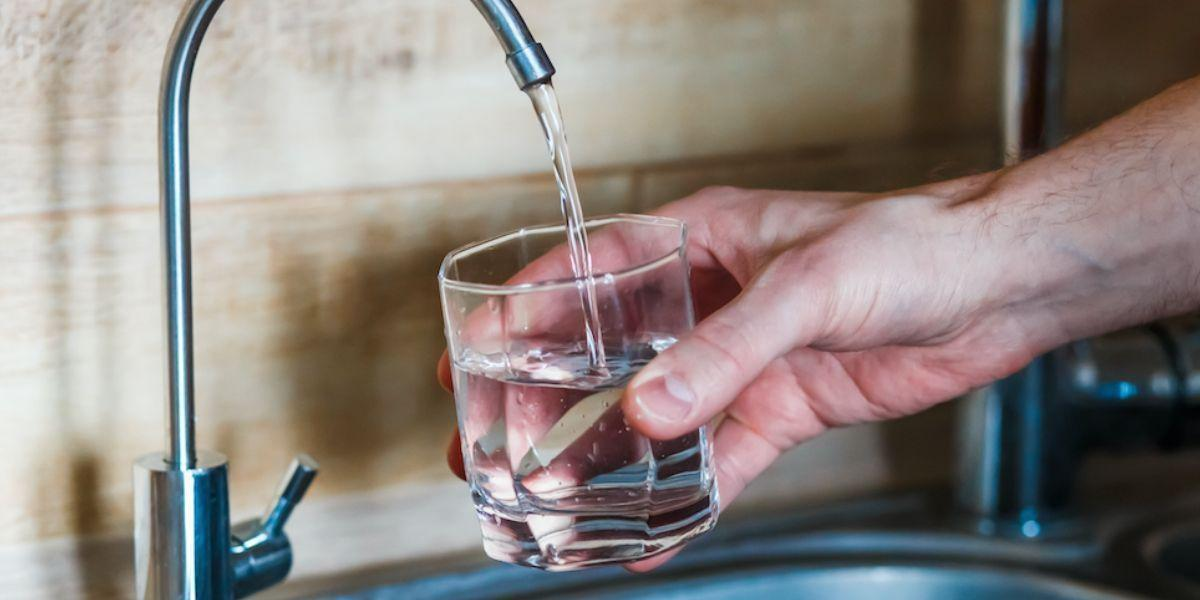glass-normal: (435, 212, 722, 570)
